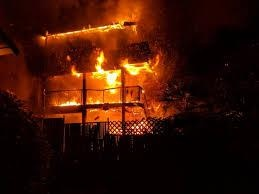fire: (48, 38, 164, 114), (42, 17, 140, 35)
